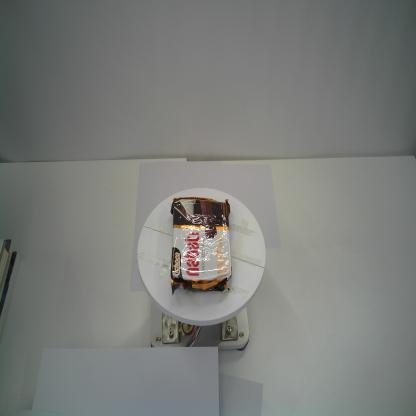Dessert: (167, 193, 233, 298)
